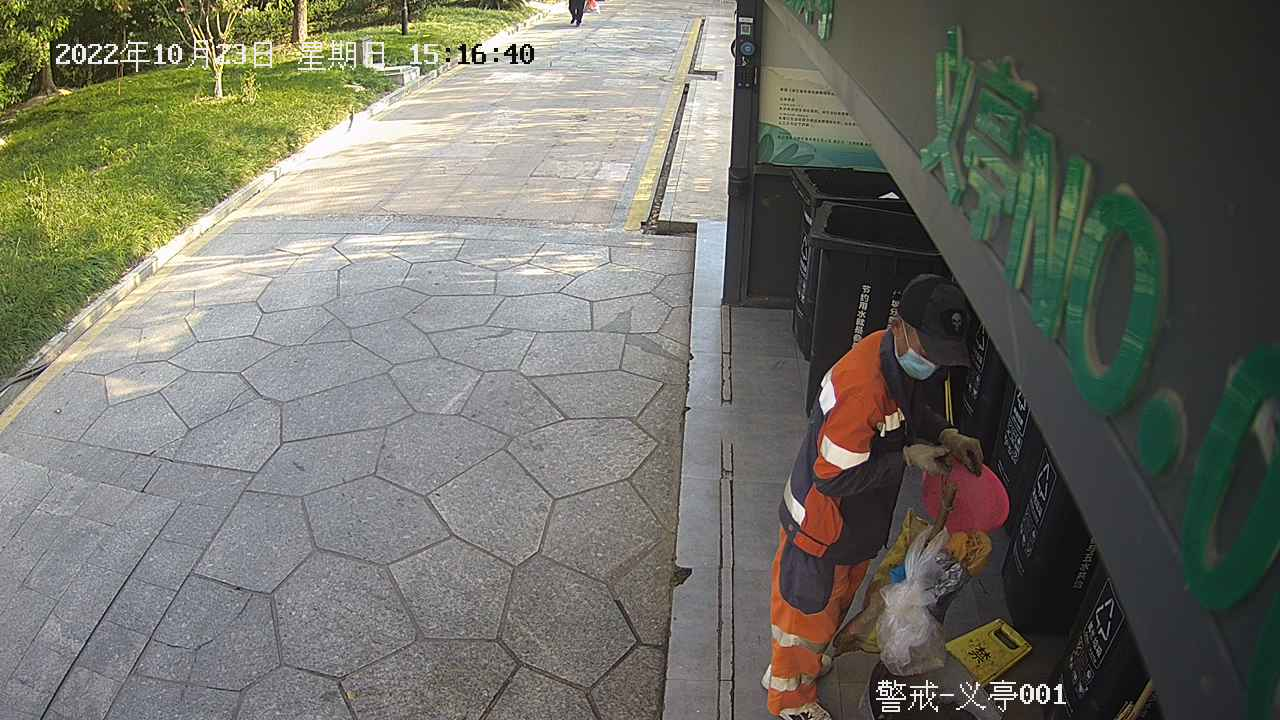garbage-bag: (826, 499, 994, 682)
worker: (760, 267, 990, 720)
